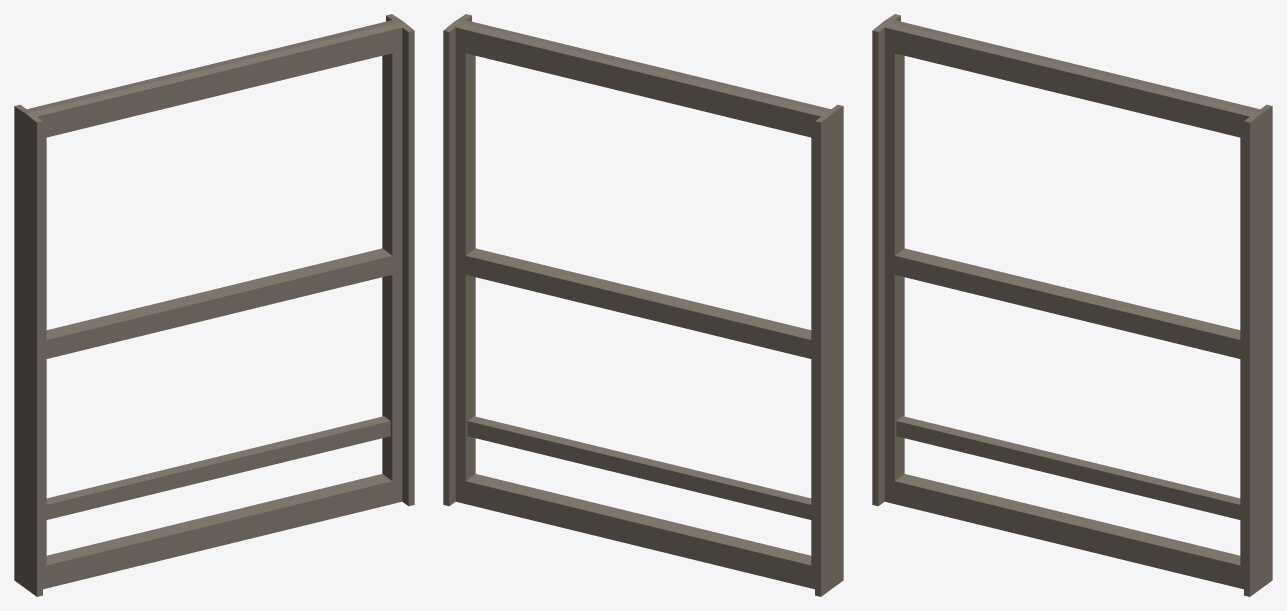
File: SM_Bld_Base_Wall_Glass_01.obj
3 views of the same model, side by side, from view 1: azimuth 30°, elevation 25°; view 2: azimuth 150°, elevation 25°; view 3: azimuth 330°, elevation 25° (orthographic).
Visible parts, largest first — view 1: SM_Bld_Base_Wall_Glass_01_0; view 2: SM_Bld_Base_Wall_Glass_01_0; view 3: SM_Bld_Base_Wall_Glass_01_0.
Part boxes in pixels (x1,y1,x2,y2): SM_Bld_Base_Wall_Glass_01_0: (14, 14, 414, 596); SM_Bld_Base_Wall_Glass_01_0: (443, 14, 843, 596); SM_Bld_Base_Wall_Glass_01_0: (872, 14, 1272, 596).
Bounding box in the file's own units: 2.5 × 3.01 × 0.2602.
Materials: 1 (1 with a texture image).
